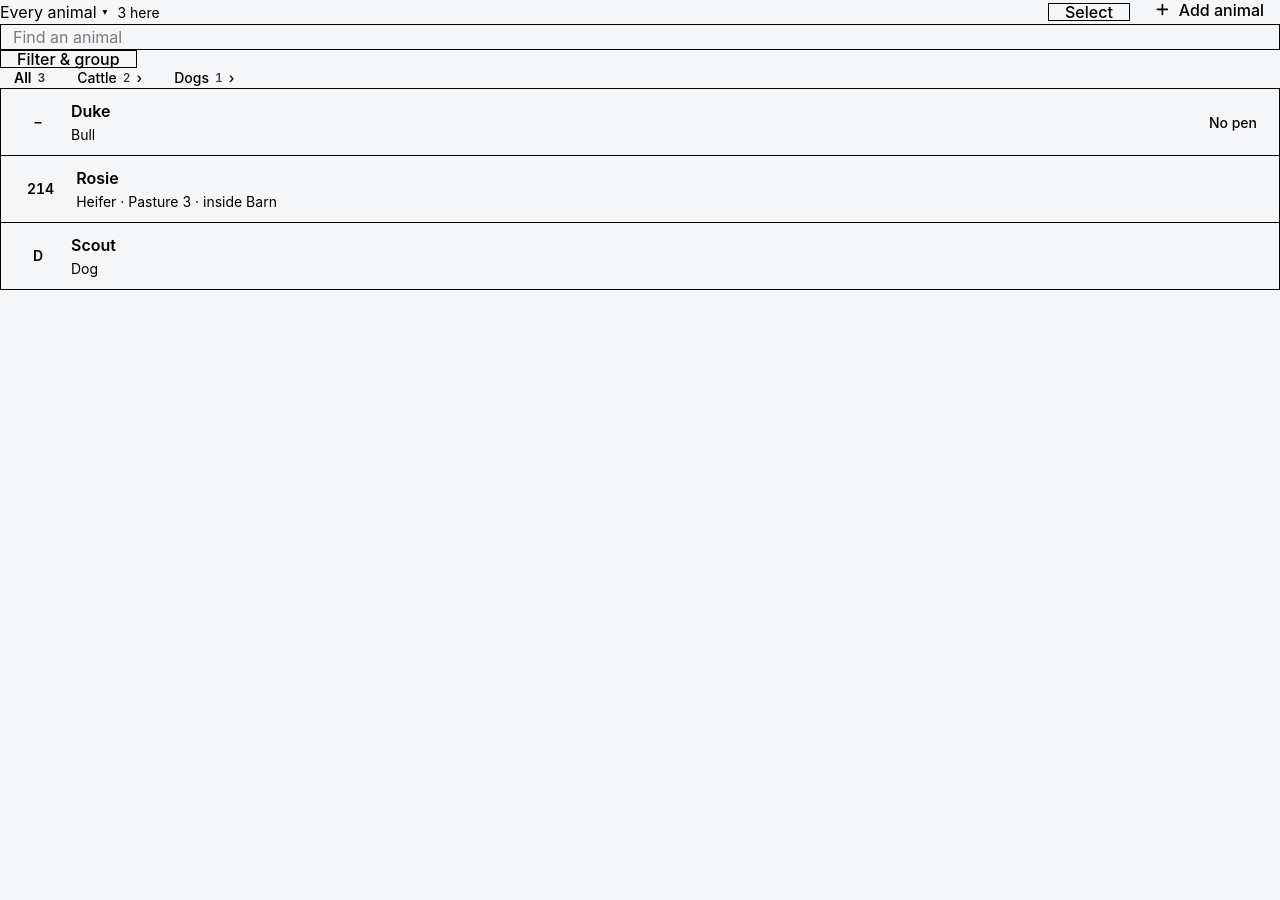
Test: filtering and grouping › names both places on a row, and finds her by either
This screenshot has width=1280, height=900.
expect the text "Heifer · Pasture 3 · inside Barn" is shown: met, box [76, 193, 277, 210]
Click the button "Filter & group" at (68, 59), box [0, 50, 137, 68]
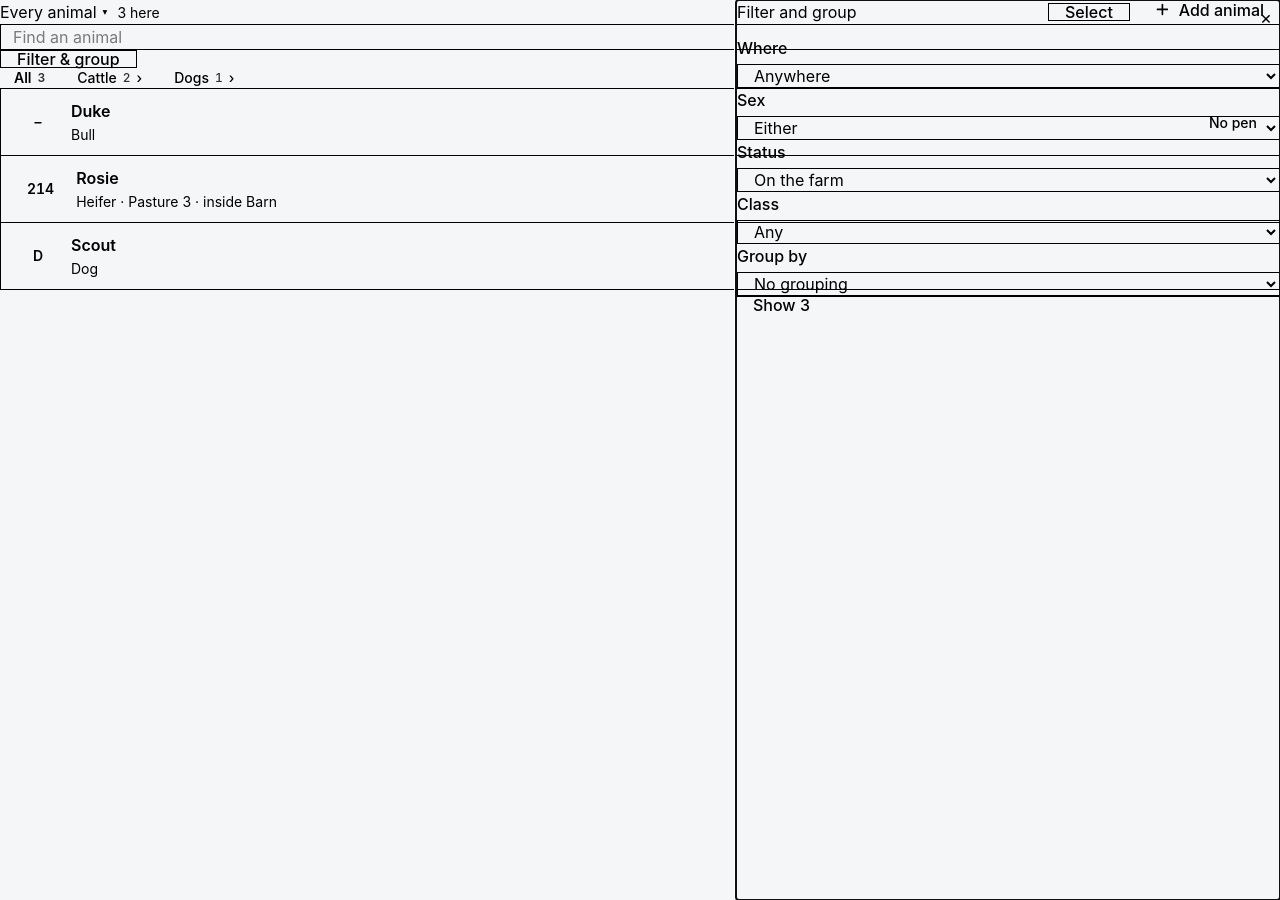
Select "Barn · inside" in the dropdown labelled "Where" at (1008, 76), box [737, 64, 1279, 88]
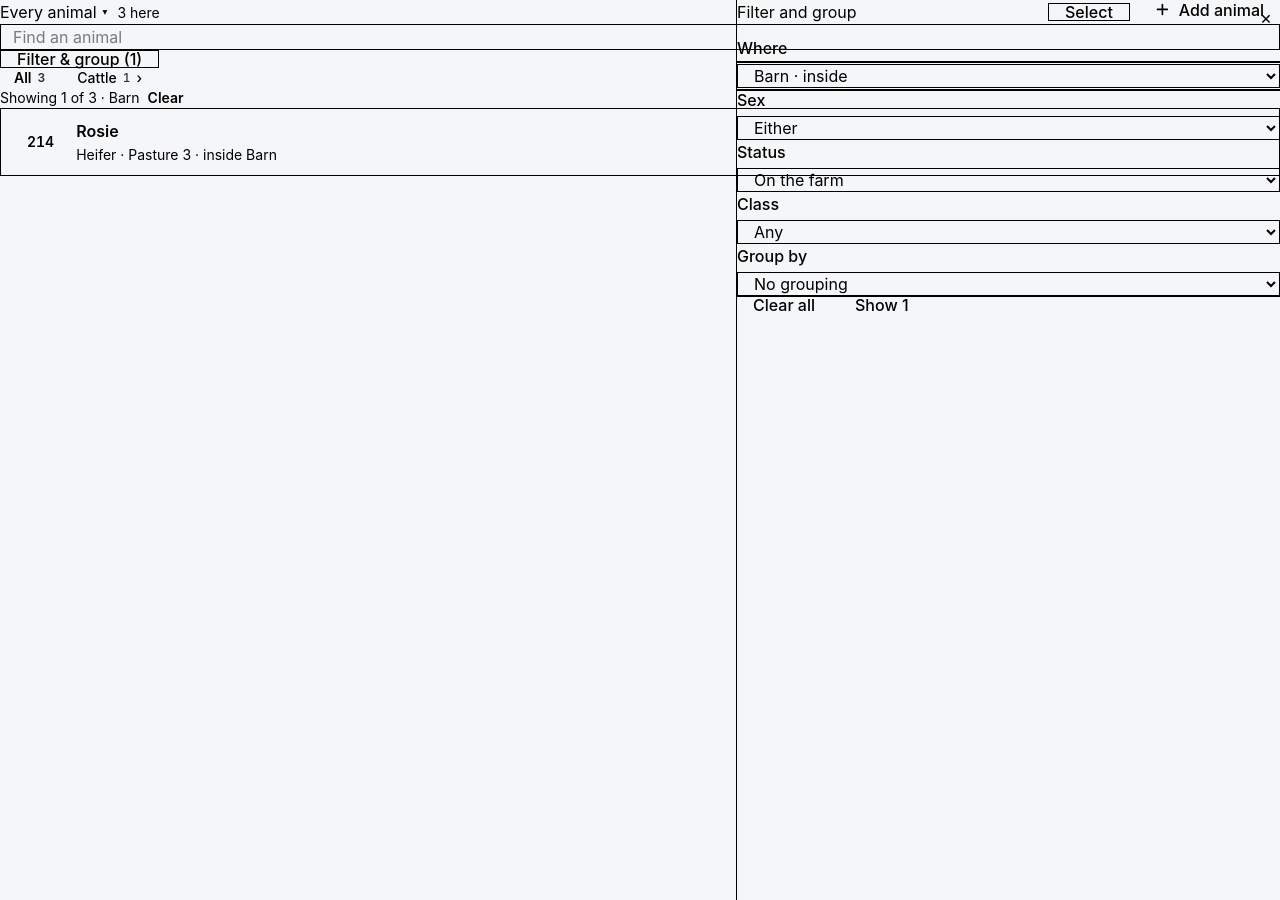
expect the text "Rosie" is shown: met, box [76, 121, 119, 141]
expect the number of list items is 1: met, box [27, 121, 277, 163]
